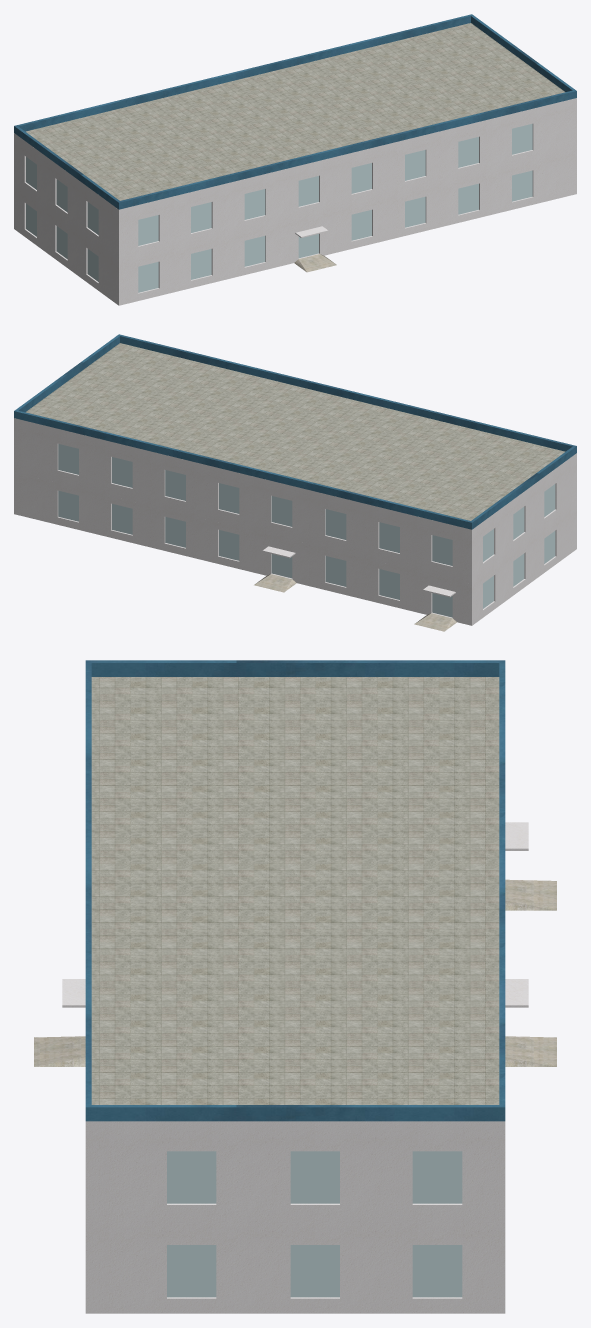
Rendered from pingdingchangfang.gltf.
3 renders of one model, top to bottom at view 1: azimuth 30°, elevation 25°; view 2: azimuth 150°, elevation 25°; view 3: azimuth 270°, elevation 25°, orthographic. The views are drawn at different scales.
Visible parts, largest first — view 1: yanglintaobao888_3487, yanglintaobao888_3484, yanglintaobao888_3481, yanglintaobao888_3485, yanglintaobao888_3486; view 2: yanglintaobao888_3487, yanglintaobao888_3484, yanglintaobao888_3481, yanglintaobao888_3485, yanglintaobao888_3486; view 3: yanglintaobao888_3484, yanglintaobao888_3487, yanglintaobao888_3485, yanglintaobao888_3481, yanglintaobao888_3486.
Part boxes in pixels (box(x1,y1,x2,y2)): yanglintaobao888_3487: box(14, 98, 576, 305); yanglintaobao888_3484: box(26, 23, 565, 200); yanglintaobao888_3481: box(26, 123, 532, 292); yanglintaobao888_3485: box(14, 14, 576, 209); yanglintaobao888_3486: box(294, 254, 336, 272); yanglintaobao888_3487: box(14, 418, 576, 625); yanglintaobao888_3484: box(26, 343, 565, 520); yanglintaobao888_3481: box(58, 444, 555, 617); yanglintaobao888_3485: box(14, 334, 576, 529); yanglintaobao888_3486: box(254, 574, 456, 631); yanglintaobao888_3484: box(91, 677, 499, 1104); yanglintaobao888_3487: box(62, 822, 528, 1313); yanglintaobao888_3485: box(85, 660, 505, 1121); yanglintaobao888_3481: box(167, 1151, 462, 1297); yanglintaobao888_3486: box(34, 879, 556, 1066).
Size of the model in its own units: 0.4461 by 0.0959 by 0.2204.
